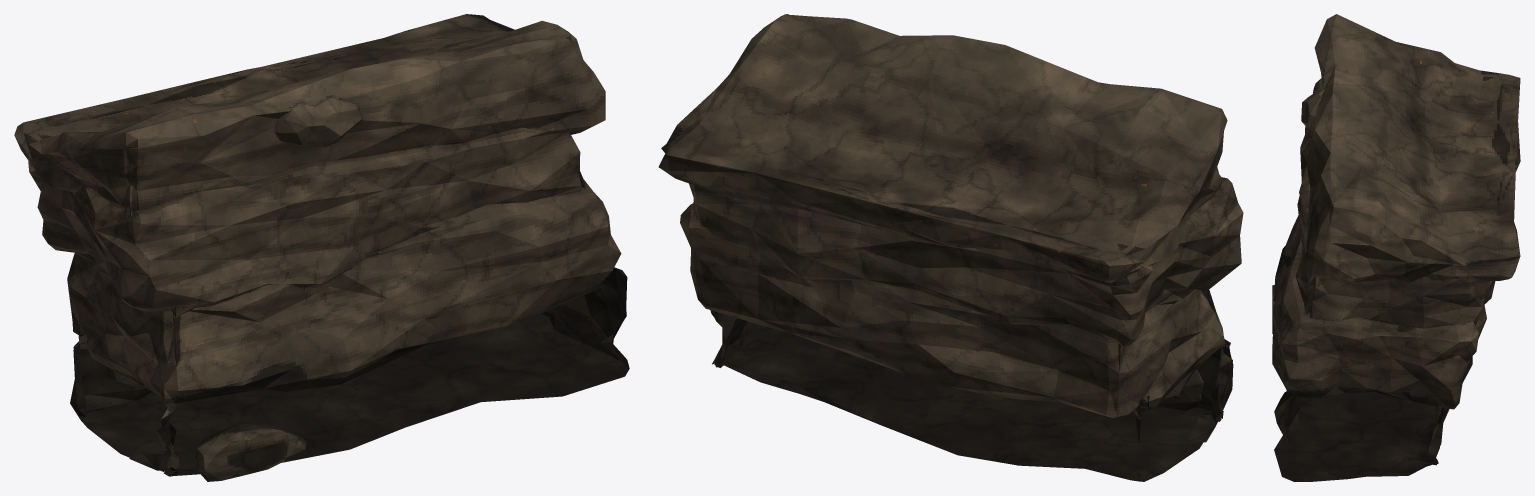
Rendered from mine_cliff_a.glb.
3 views of the same model, side by side, from view 1: azimuth 30°, elevation 25°; view 2: azimuth 150°, elevation 25°; view 3: azimuth 270°, elevation 25° (orthographic). The views are drawn at different scales.
Parts seen in each view (by area): view 1: mine_cliff_a; view 2: mine_cliff_a; view 3: mine_cliff_a.
Boxes of the visible parts, x1,y1,x2,y2 form: mine_cliff_a: [14, 14, 629, 481]; mine_cliff_a: [658, 14, 1243, 481]; mine_cliff_a: [1272, 14, 1520, 481].
Size of the model in its own units: 3.6 by 2.38 by 1.88.
1 material, 1 textured.
